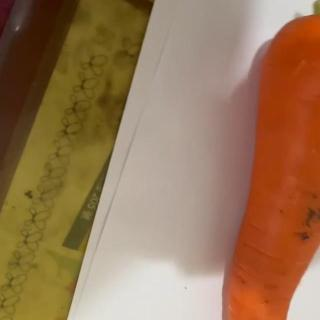carrot: (223, 0, 320, 320)
